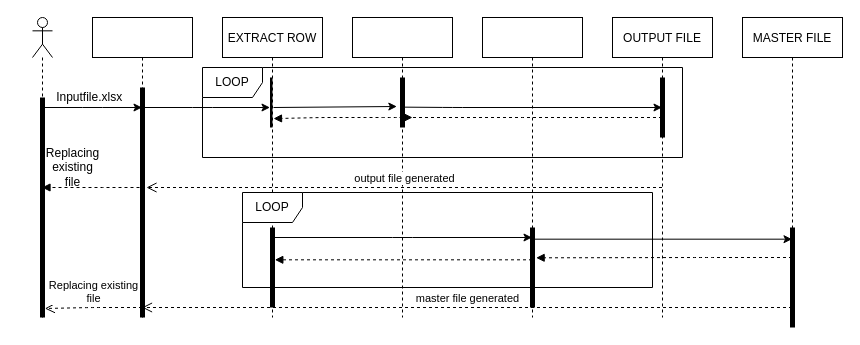
Image size: 860x345. Some labels were removed from this diagram. The box of each missing label's shape, as (x1, y1, x2, y2) in pixels:
FACULTY CALENDAR: (352, 16, 452, 318)
GUI: (92, 16, 192, 318)
MASTER CALENDAR: (482, 16, 582, 318)
